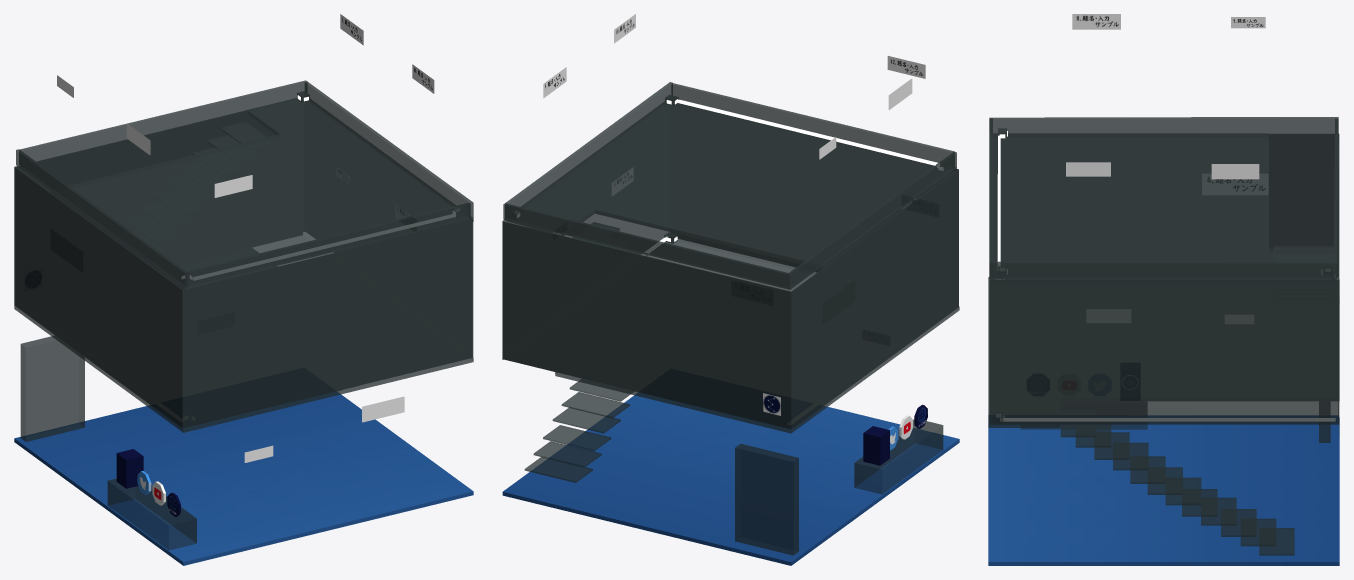
The model's file is 1G_DCL_gltf.gltf.
3 renders of one model, left to right at view 1: azimuth 30°, elevation 25°; view 2: azimuth 150°, elevation 25°; view 3: azimuth 270°, elevation 25°, orthographic. The views are drawn at different scales.
Parts seen in each view (by area): view 1: 1.ガラス壁, 3.床, 5.ガラス支え, 4.ガラス階段, ガラスオブジェ, 題名入力, 発行体, スピーカー, ロゴ_link; view 2: 1.ガラス壁, 3.床, 5.ガラス支え, 4.ガラス階段, ガラスオブジェ, 題名入力, 発行体, スピーカー, ロゴ_link; view 3: 3.床, 1.ガラス壁, 5.ガラス支え, 4.ガラス階段, 題名入力, 発行体, ガラスオブジェ.
Boxes of the visible parts, box(x1,y1,x2,y2) form: 1.ガラス壁: box(14, 100, 473, 428); 3.床: box(14, 98, 473, 565); 5.ガラス支え: box(16, 80, 473, 441); 4.ガラス階段: box(112, 121, 275, 266); ガラスオブジェ: box(107, 478, 196, 550); 題名入力: box(57, 14, 434, 462); 発行体: box(193, 214, 455, 280); スピーカー: box(116, 449, 143, 488); ロゴ_link: box(137, 471, 180, 516); 1.ガラス壁: box(502, 103, 958, 429); 3.床: box(502, 102, 959, 565); 5.ガラス支え: box(503, 82, 956, 555); 4.ガラス階段: box(524, 222, 647, 482); ガラスオブジェ: box(854, 419, 943, 494); 題名入力: box(543, 14, 925, 234); 発行体: box(641, 99, 937, 255); スピーカー: box(863, 426, 889, 465); ロゴ_link: box(888, 404, 927, 450); 3.床: box(988, 134, 1339, 565); 1.ガラス壁: box(989, 134, 1339, 424); 5.ガラス支え: box(989, 117, 1338, 442); 4.ガラス階段: box(1060, 246, 1334, 555); 題名入力: box(1066, 14, 1268, 323); 発行体: box(997, 135, 1335, 421); ガラスオブジェ: box(1020, 402, 1147, 429).
Size of what is drawn, in the model's own units: 14.9 by 19.3 by 15.03.
5 materials, 3 textured.
